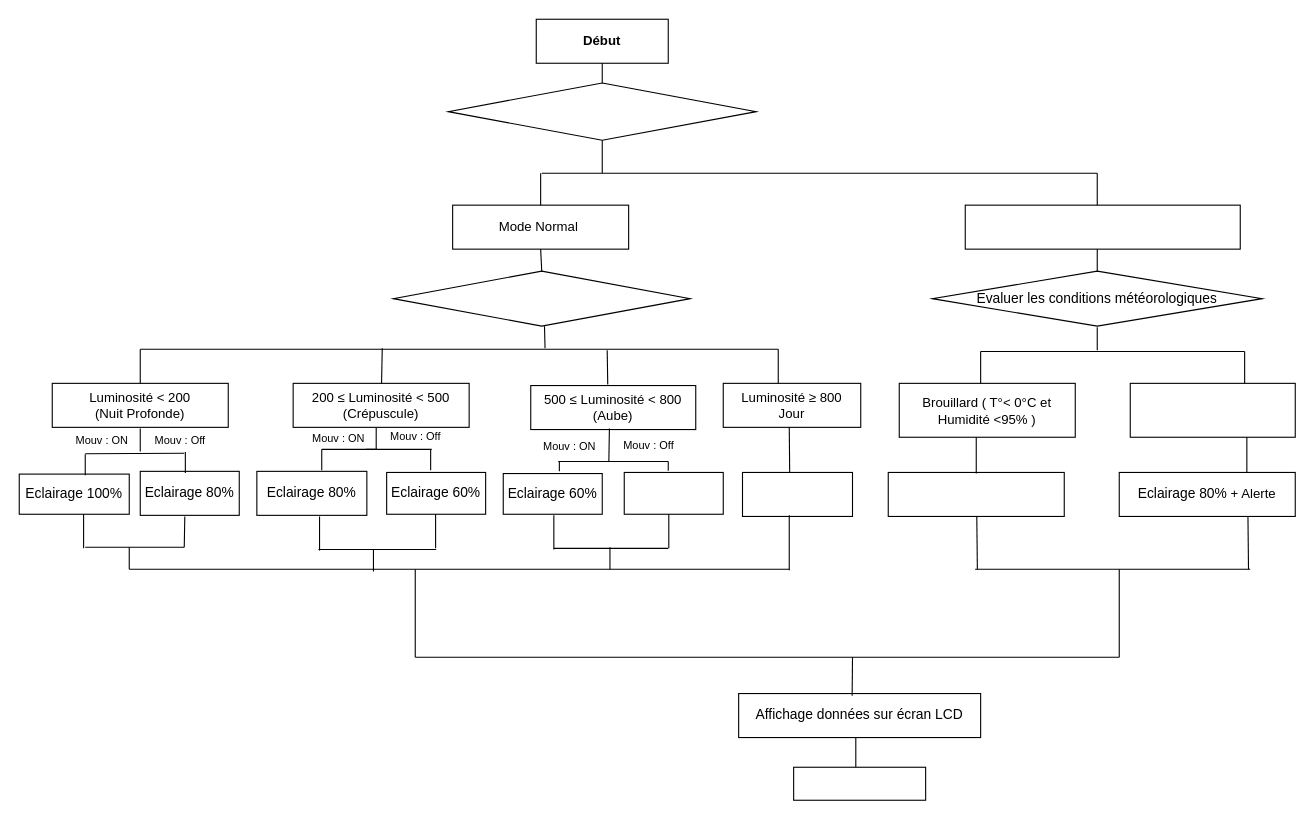
The diagram is 1315 pixels wide and 820 high, and some of its shapes have lost their labels. Each missing label, with the centre of its shape:
"Brume ( T°< 2°C et Humidité <95% )" belongs at point (1212, 409).
"Eclairage 0%" belongs at point (797, 493).
"Eclairage 100% + Alerte" belongs at point (975, 493).
"Eclairage 40%" belongs at point (673, 492).
"Evaluer les conditions ambiantes" belongs at point (541, 298).
"Fin" belongs at point (859, 783).
"l'éclairage naturel suffisant ?" belongs at point (601, 111).
"Mode Phénomènes Météorologiques" belongs at point (1102, 226).
